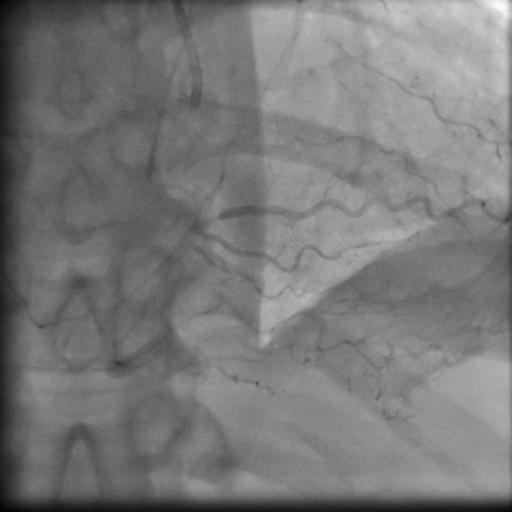Stenosis: (203, 208, 226, 228)
